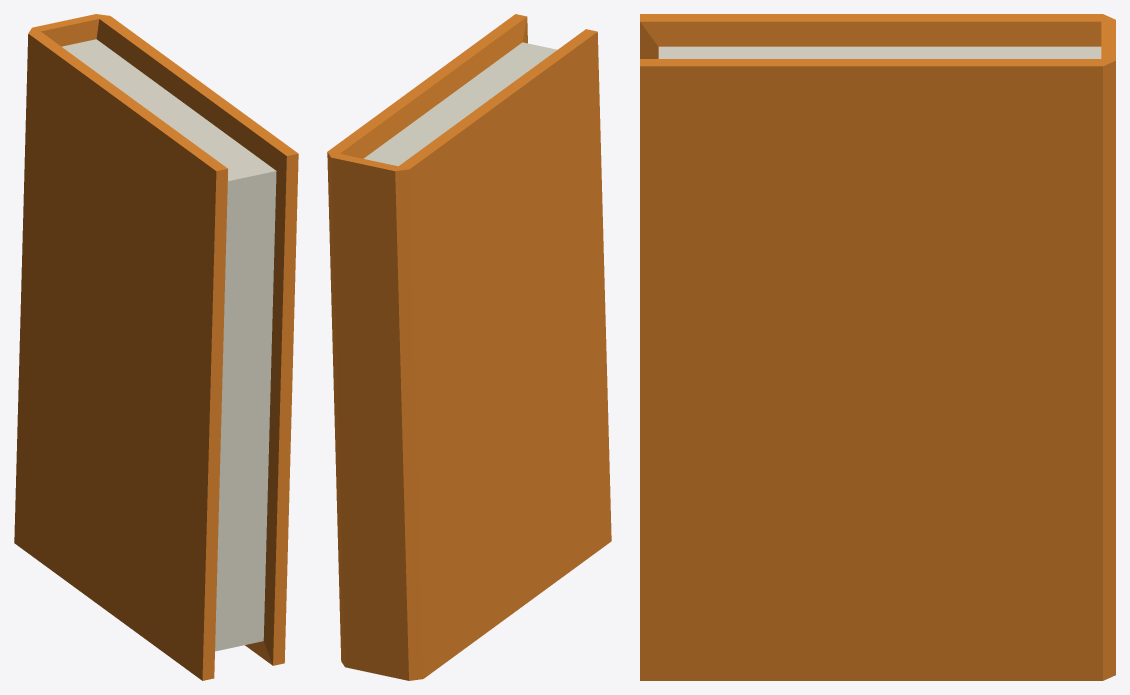
File: book.fbx
3 views of the same model, side by side, from view 1: azimuth 30°, elevation 25°; view 2: azimuth 150°, elevation 25°; view 3: azimuth 270°, elevation 25° (orthographic). The views are drawn at different scales.
Visible parts, largest first — view 1: Cube.028; view 2: Cube.028; view 3: Cube.028.
Boxes of the visible parts, x1,y1,x2,y2 form: Cube.028: (14, 14, 298, 680); Cube.028: (327, 14, 611, 680); Cube.028: (640, 14, 1115, 680).
Bounding box in the file's own units: 4.3 × 21.75 × 14.99.
